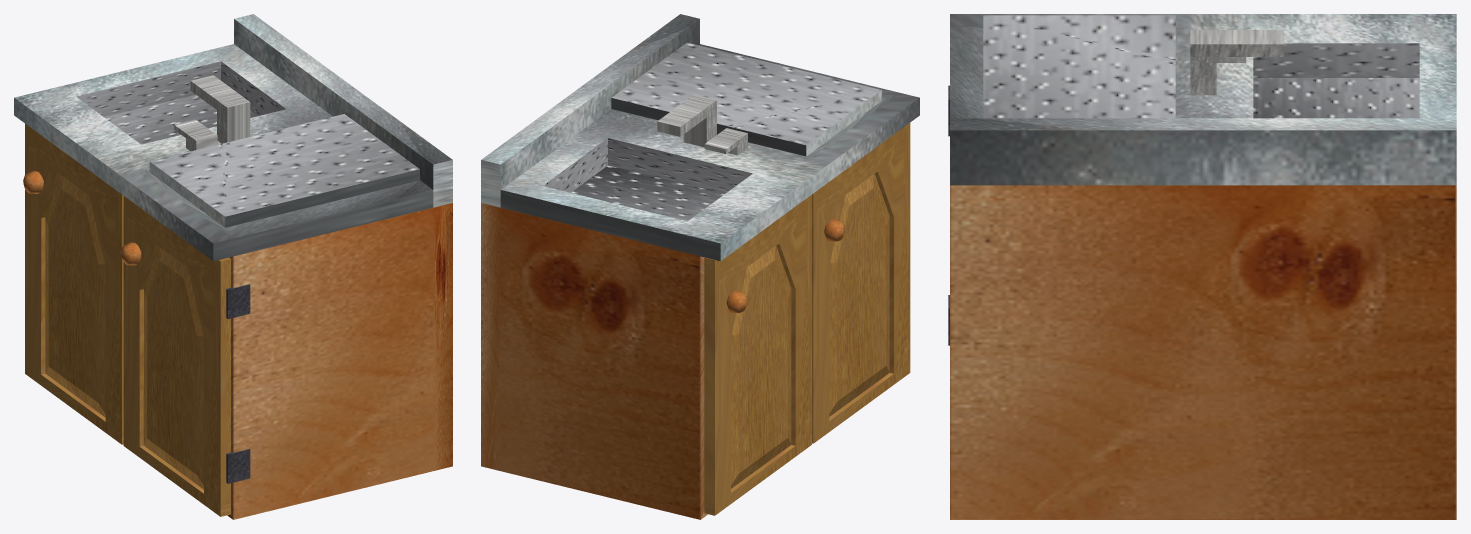
Rendered from tap.FBX.
The picture shows the model from 3 angles, left to right: view 1: azimuth 30°, elevation 25°; view 2: azimuth 150°, elevation 25°; view 3: azimuth 270°, elevation 25°; orthographic projection. The views are drawn at different scales.
Visible parts, largest first — view 1: Object006, Box002, Sphere003, Sphere002, Object010, Object007, Object011, Object008, Box003, Object009; view 2: Object006, Sphere002, Box002, Sphere003, Object010, Object011, Object007, Object008, Object009; view 3: Object006, Object007, Object010, Box002, Object011, Object008.
Boxes of the visible parts, <box> form: Object006: <box>227,203,452,519</box>; Box002: <box>14,44,433,261</box>; Sphere003: <box>123,196,230,516</box>; Sphere002: <box>25,123,123,444</box>; Object010: <box>150,114,419,216</box>; Object007: <box>234,14,452,207</box>; Object011: <box>76,61,285,144</box>; Object008: <box>186,75,250,151</box>; Box003: <box>226,284,250,483</box>; Object009: <box>174,119,217,145</box>; Object006: <box>481,203,707,519</box>; Sphere002: <box>704,195,811,515</box>; Box002: <box>500,44,919,261</box>; Sphere003: <box>812,123,910,443</box>; Object010: <box>611,42,881,145</box>; Object011: <box>543,138,752,221</box>; Object007: <box>481,14,699,207</box>; Object008: <box>657,94,747,155</box>; Object009: <box>704,128,747,154</box>; Object006: <box>950,185,1456,519</box>; Object007: <box>950,118,1456,185</box>; Object010: <box>983,15,1175,118</box>; Box002: <box>950,14,1456,118</box>; Object011: <box>1253,43,1419,118</box>; Object008: <box>1190,30,1283,95</box>.
Bounding box in the file's own units: 63.65 × 78.93 × 88.95.
7 materials, 7 textured.
